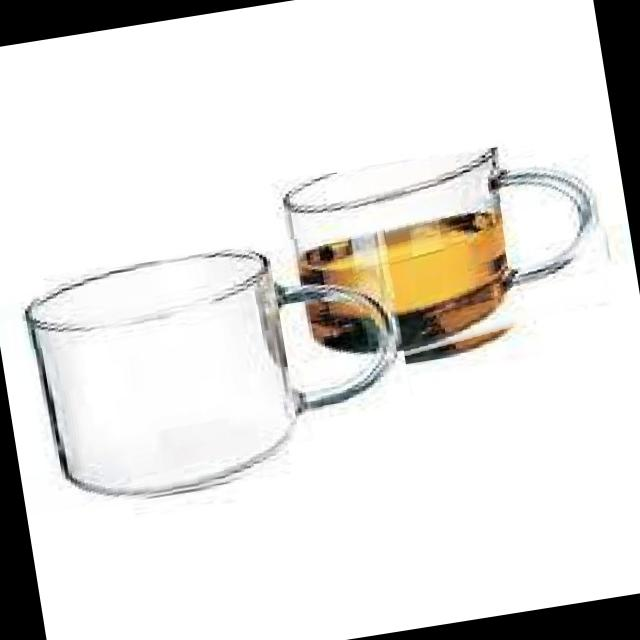Glass: (14, 224, 420, 516), (279, 132, 628, 384)
